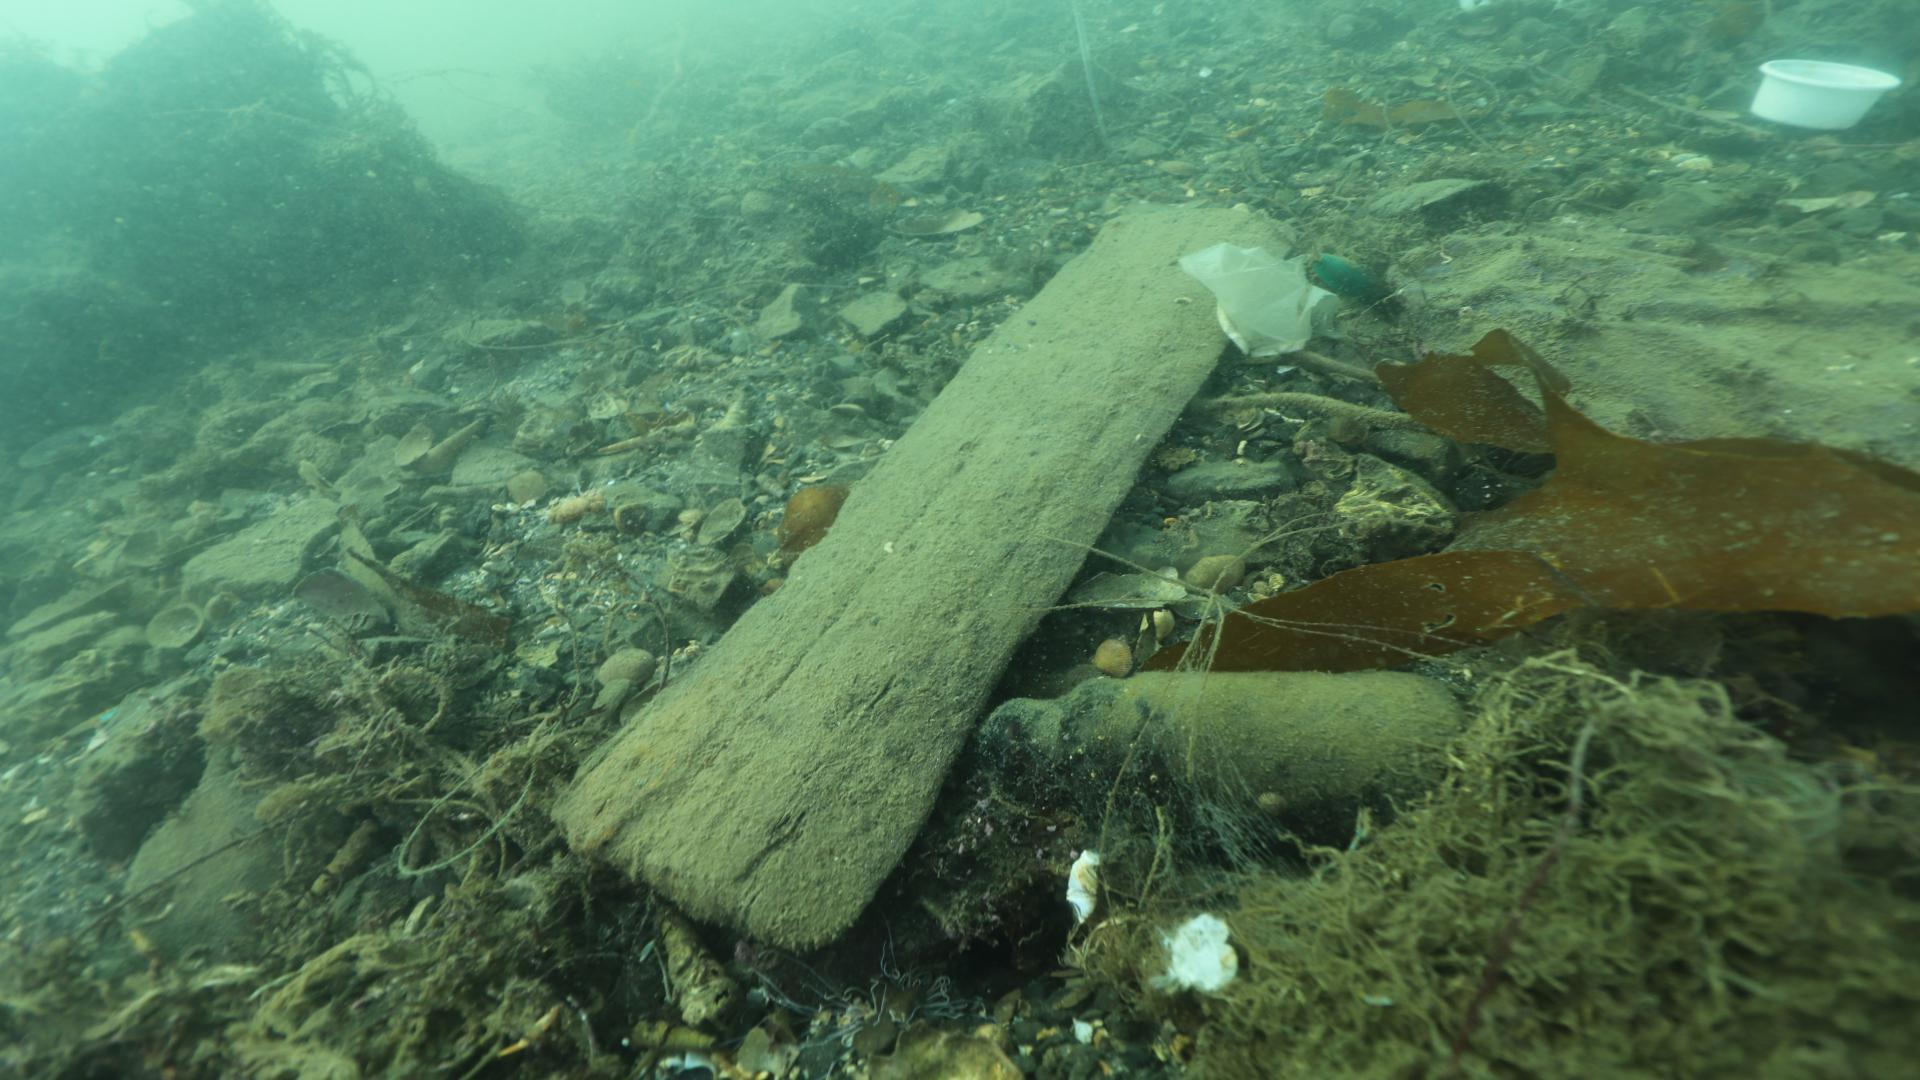wood: (546, 200, 1296, 953)
